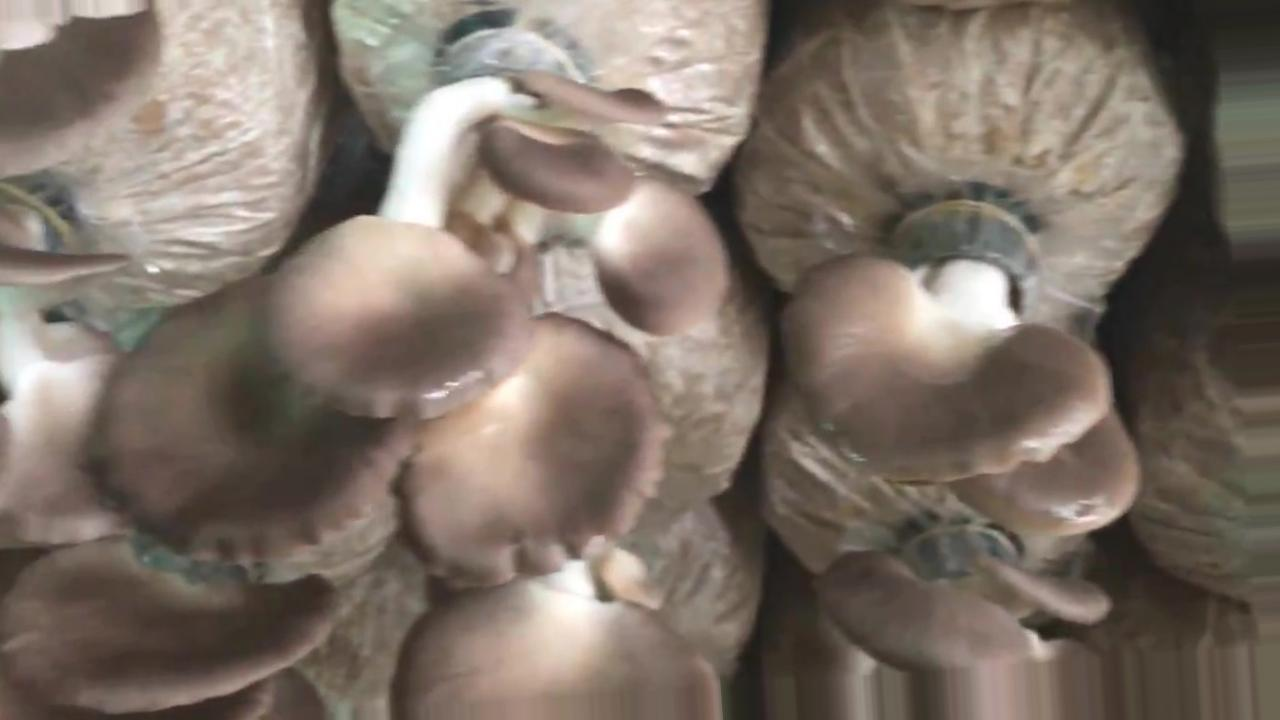nam: (78, 23, 735, 593), (774, 182, 1145, 539), (769, 525, 1145, 720), (389, 546, 728, 720), (1, 541, 348, 708), (1, 291, 139, 542), (1, 1, 163, 182)
